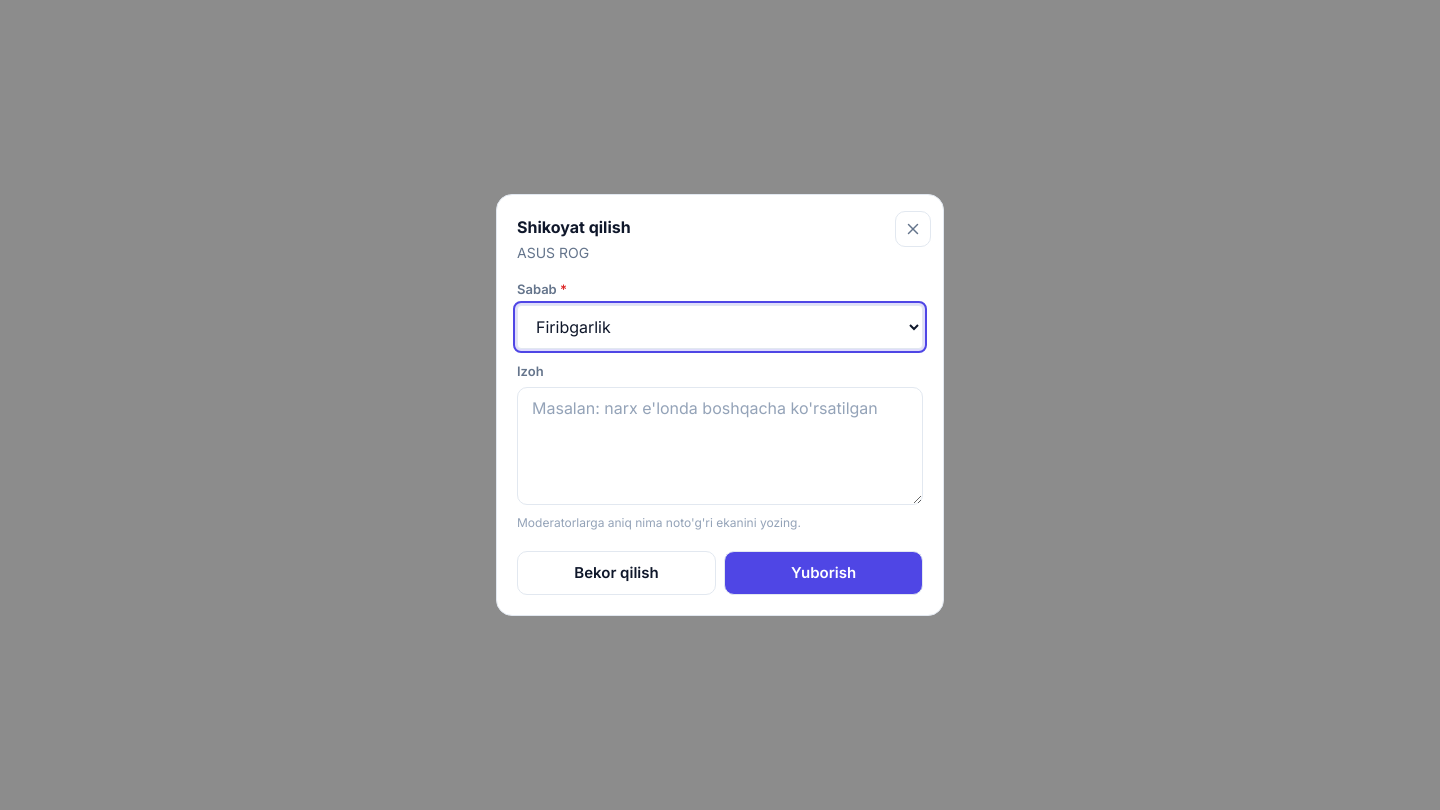
Test case: ReportModal › takroriy shikoyatda backend xabarini ko'rsatadi
Click the button "Yuborish".
click(824, 573)  # box [724,551,923,595]
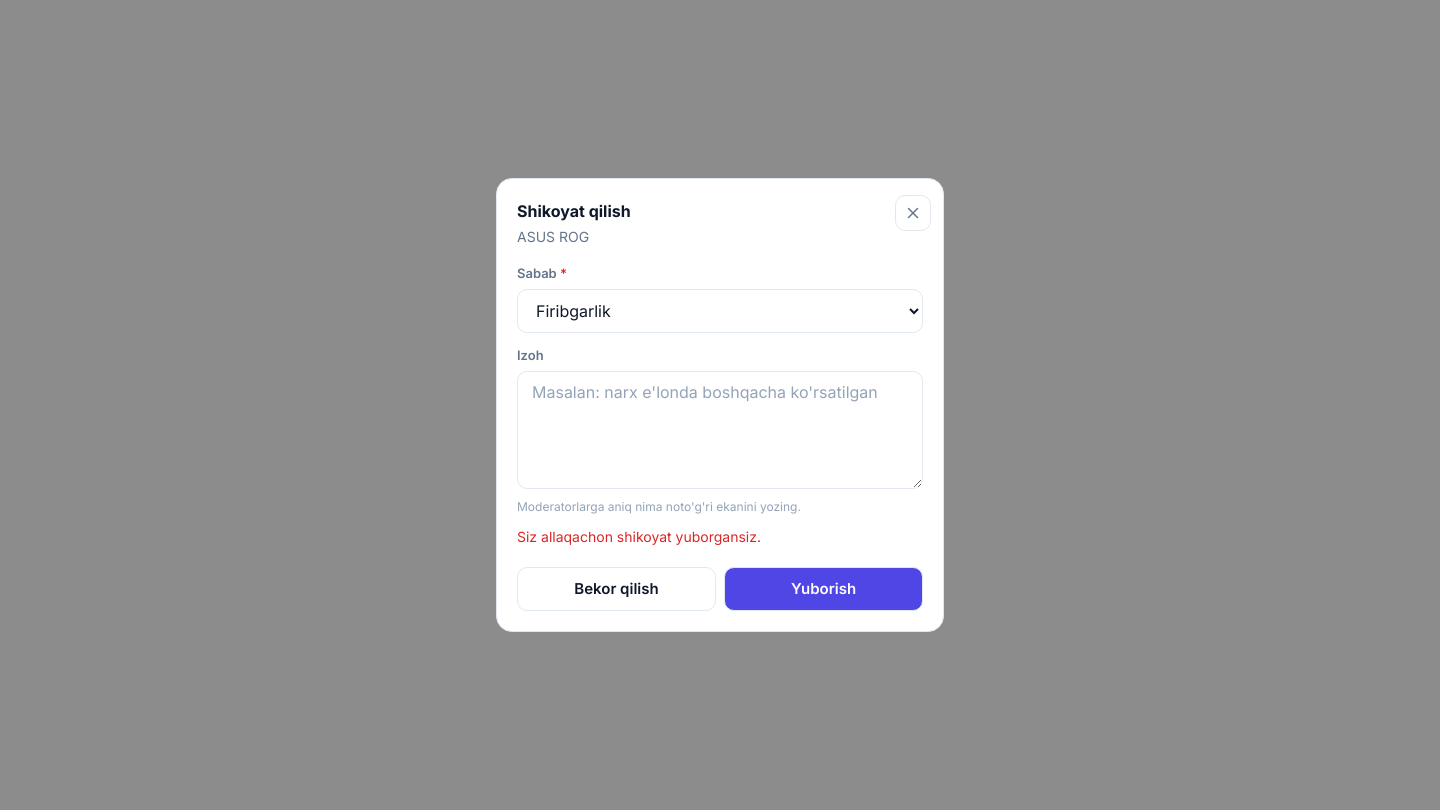
Check: the message shows "allaqachon", box [517,528,761,545]
